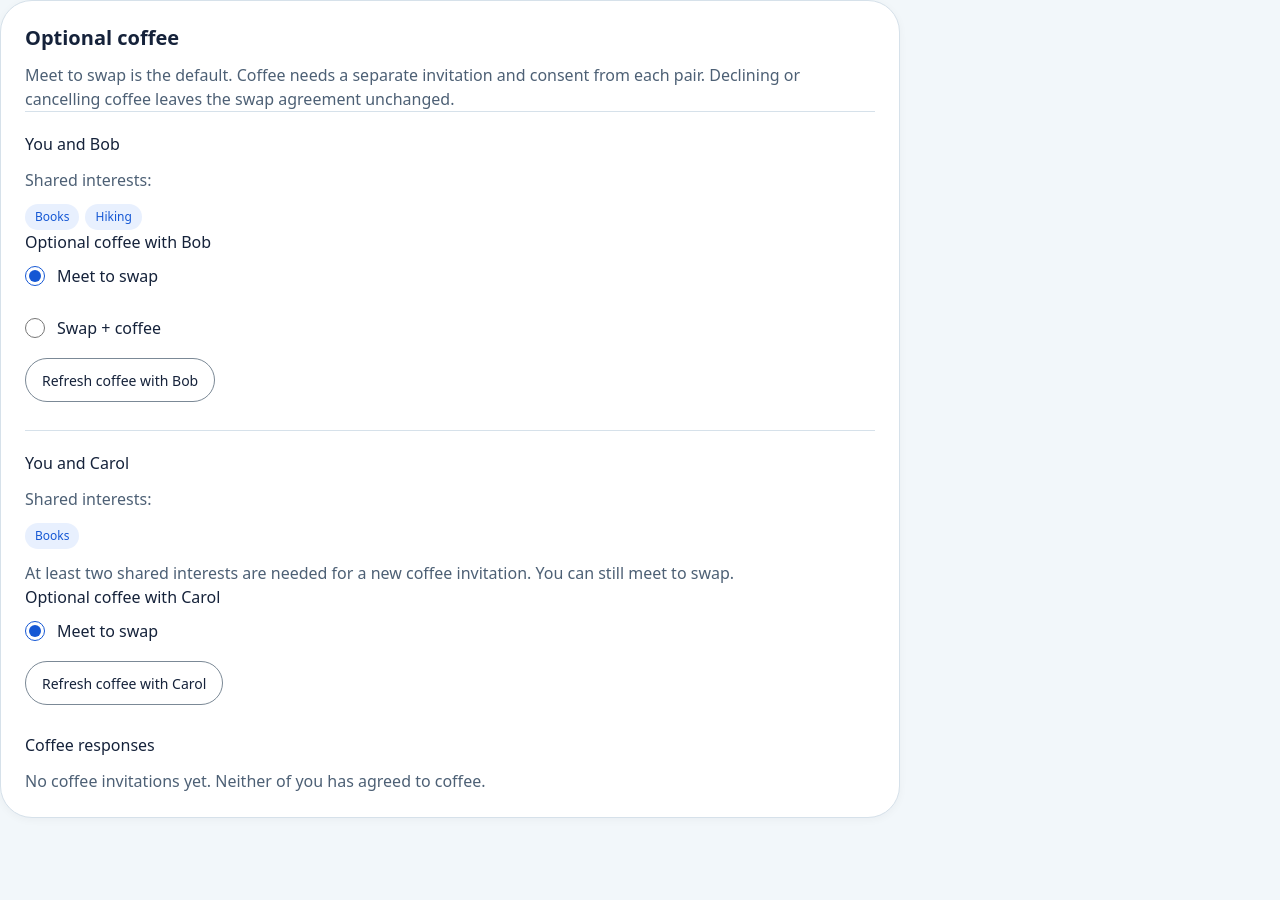
Scenario: eligible pair shows actual tags, unchecked offer and retries identical input/key
expect the list item "Books" next to "Hiking" is shown: met, box [35, 208, 70, 225]
expect the list item "Hiking" is shown: met, box [86, 204, 142, 230]
Step 1. Click the radio button labelled "Swap + coffee" → (35, 328), box [25, 318, 45, 338]
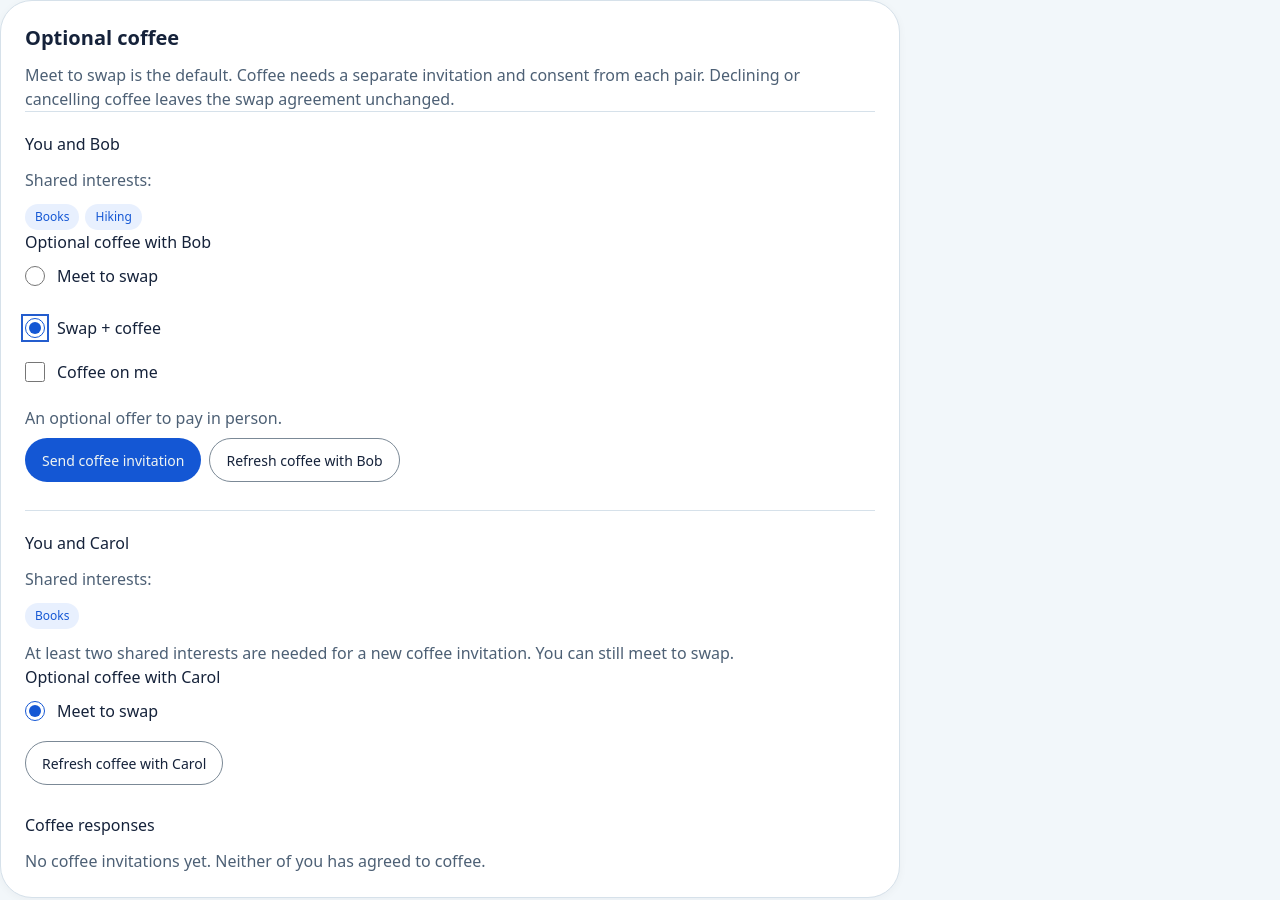
expect the checkbox labelled "Coffee on me" is not checked: met
Step 2. Click the checkbox labelled "Coffee on me" → (35, 372), box [25, 362, 45, 382]
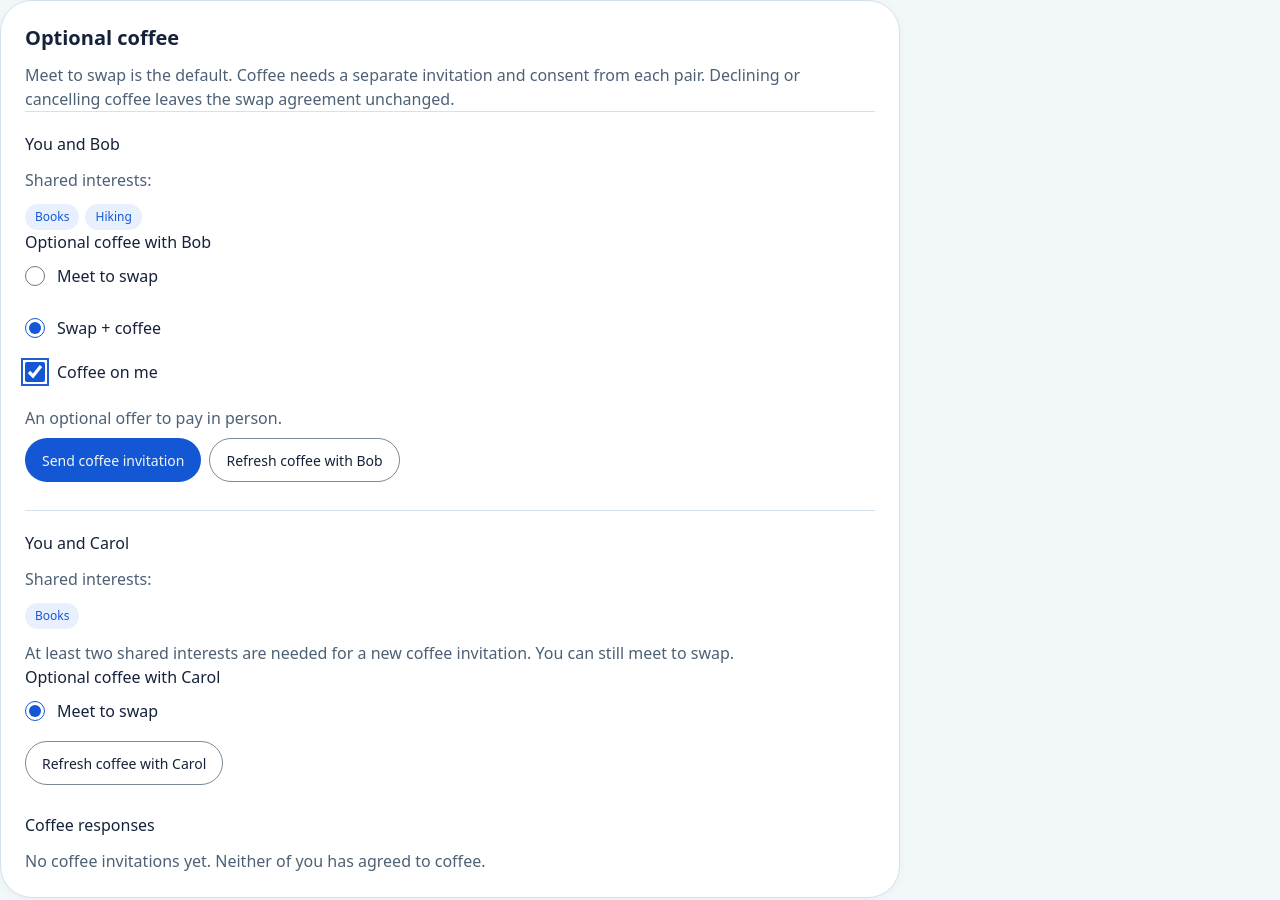
Step 3. Click the button "Send coffee invitation" → (113, 460), box [25, 438, 201, 482]
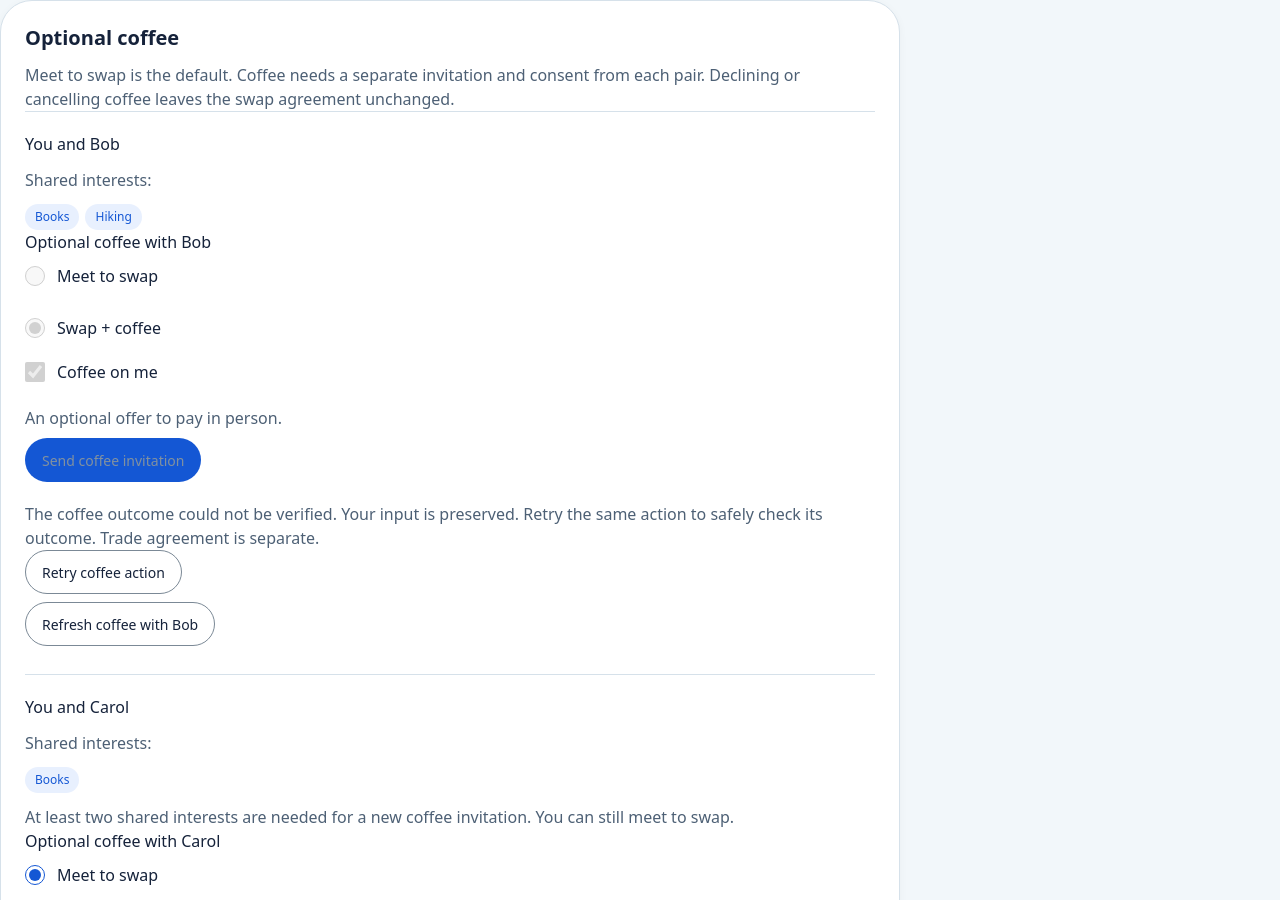
expect the checkbox labelled "Coffee on me" is checked: met, box [25, 362, 45, 382]
expect the button "Retry coffee action" is shown: met
Step 4. Click the button "Retry coffee action" → (103, 572), box [25, 550, 182, 594]
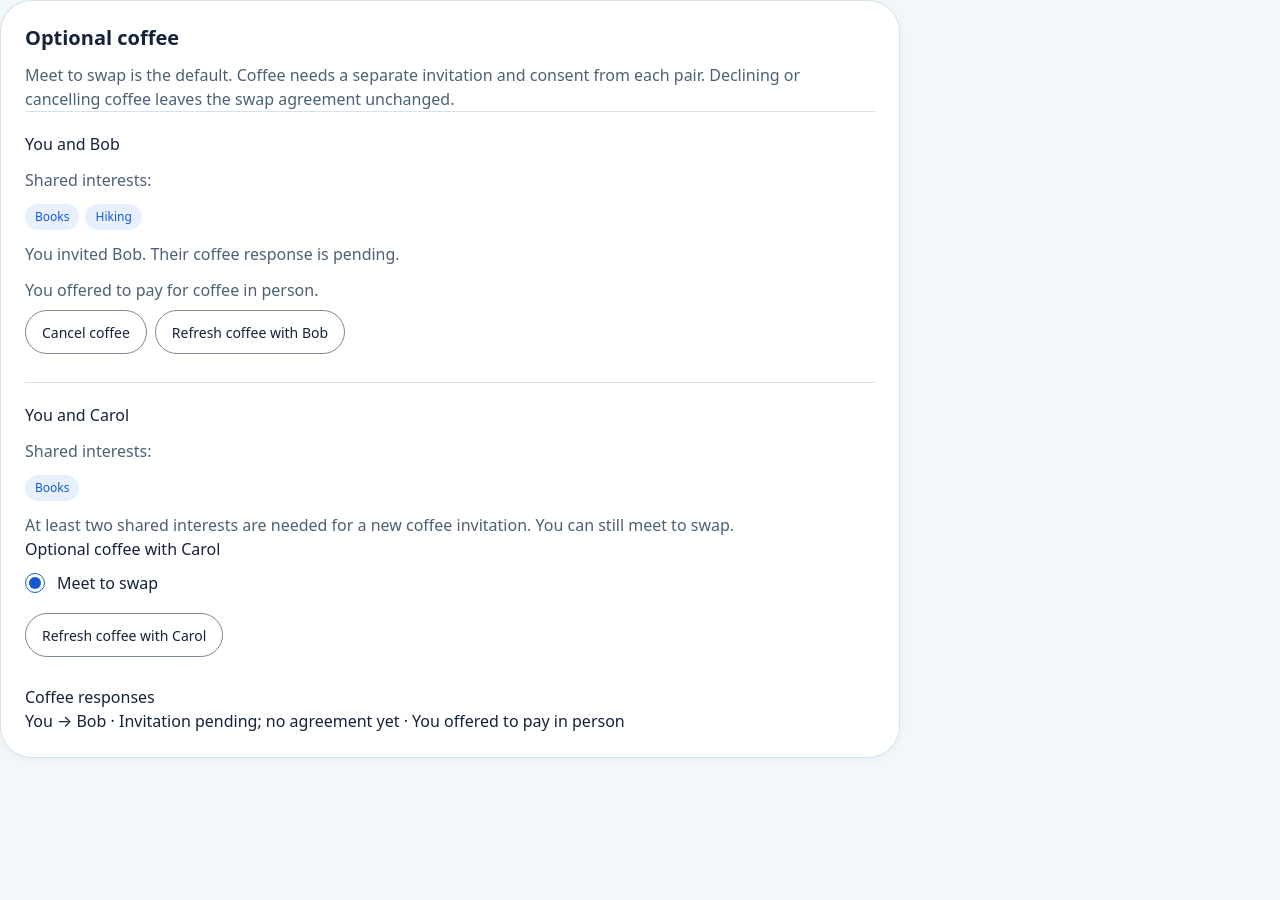
expect the text "You invited Bob. Their coffee response is pending." is shown: met, box [25, 243, 400, 265]
expect the label labelled "Swap + coffee" is gone: met
